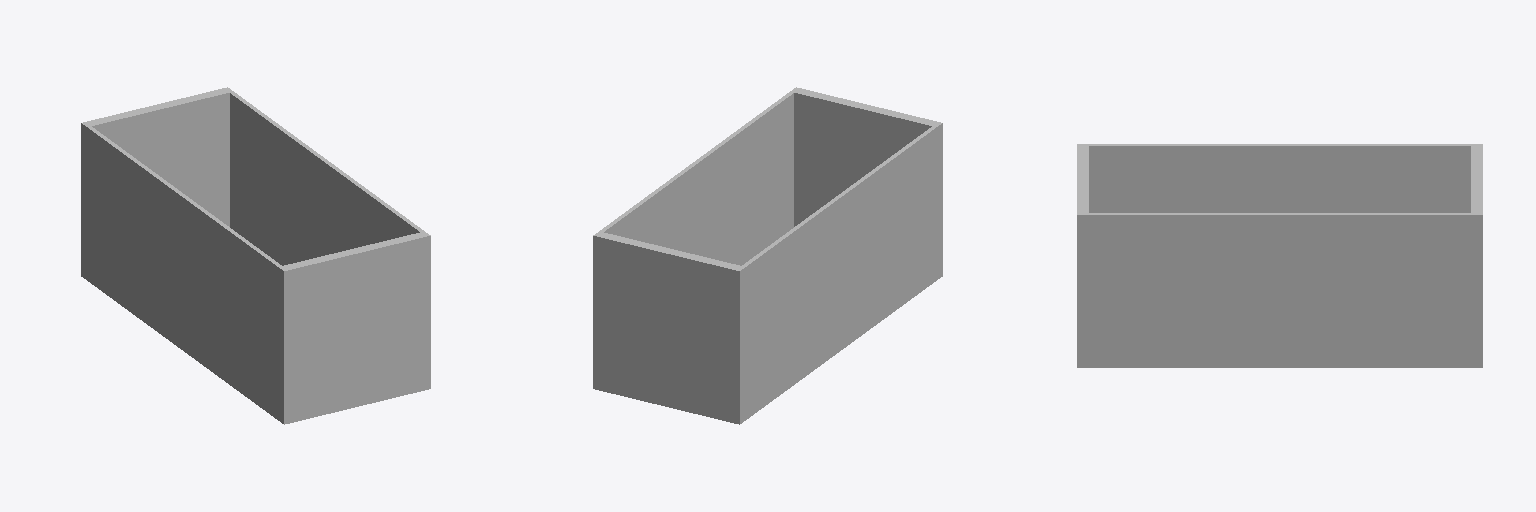
File: chestBody.obj
3 views of the same model, side by side, from view 1: azimuth 30°, elevation 25°; view 2: azimuth 150°, elevation 25°; view 3: azimuth 270°, elevation 25° (orthographic).
Visible parts, largest first — view 1: Cube; view 2: Cube; view 3: Cube.
Part boxes in pixels (x1,y1,x2,y2): Cube: (81,87,430,424); Cube: (593,87,942,424); Cube: (1077,144,1482,367).
Bounding box in the file's own units: 2 × 2 × 4.79.